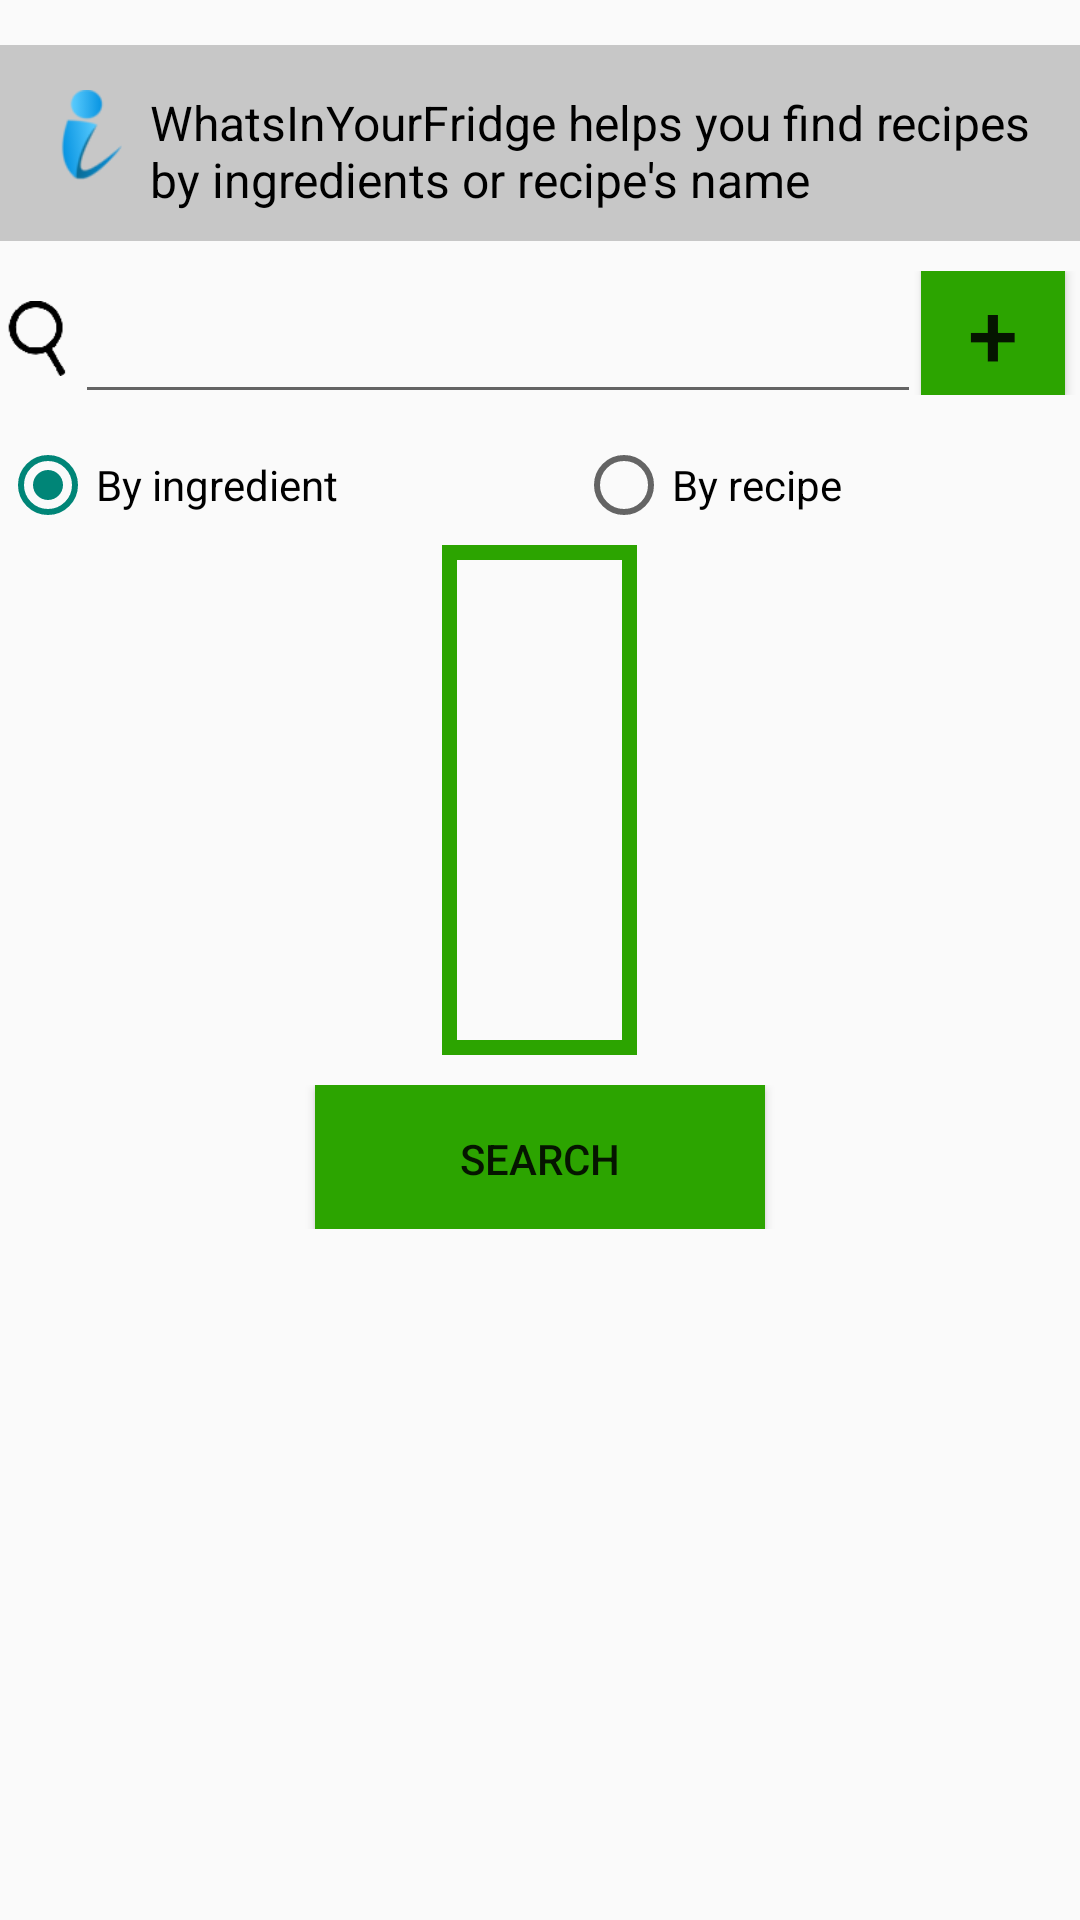

Where icons sit on this 1080 × 1920 app screen, as bbox=[x1, y1, x2, y2]:
search bar: bbox=[8, 301, 66, 376]
